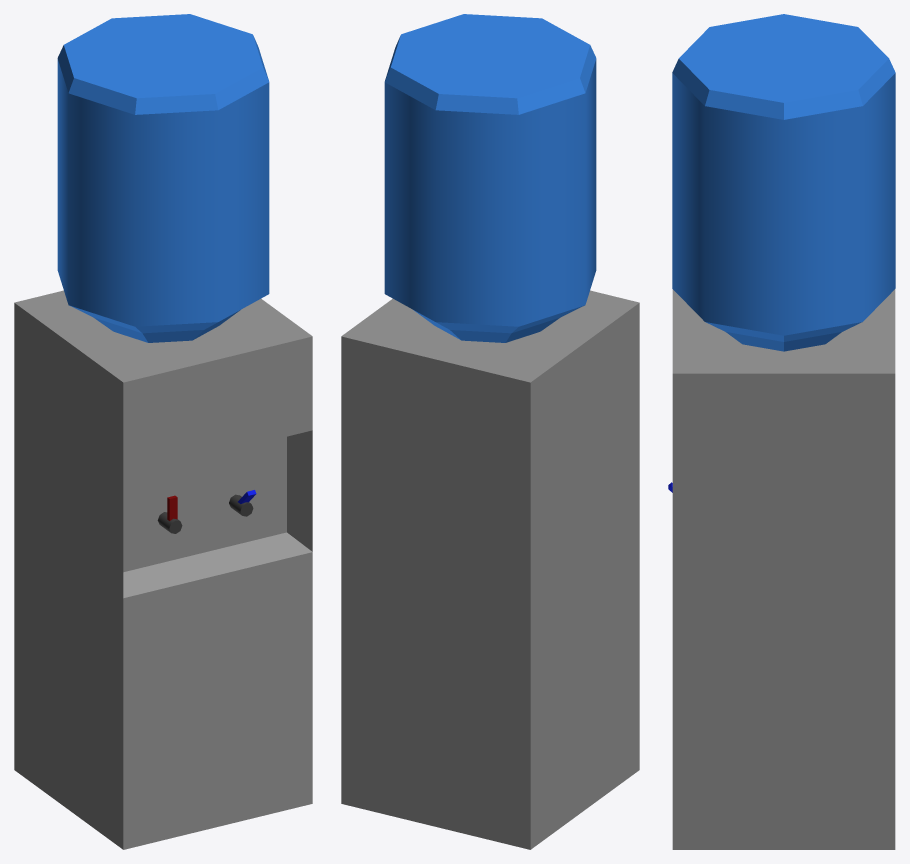
Rendered from MaquinaAgua.FBX.
3 renders of one model, left to right at view 1: azimuth 30°, elevation 25°; view 2: azimuth 150°, elevation 25°; view 3: azimuth 270°, elevation 25°, orthographic.
Visible parts, largest first — view 1: MaquinaAgua; view 2: MaquinaAgua; view 3: MaquinaAgua.
Part boxes in pixels (x1,y1,x2,y2): MaquinaAgua: [14, 14, 312, 849]; MaquinaAgua: [341, 14, 639, 849]; MaquinaAgua: [668, 14, 895, 849].
Size of the model in its own units: 2.04 by 7.5 by 2.07.
